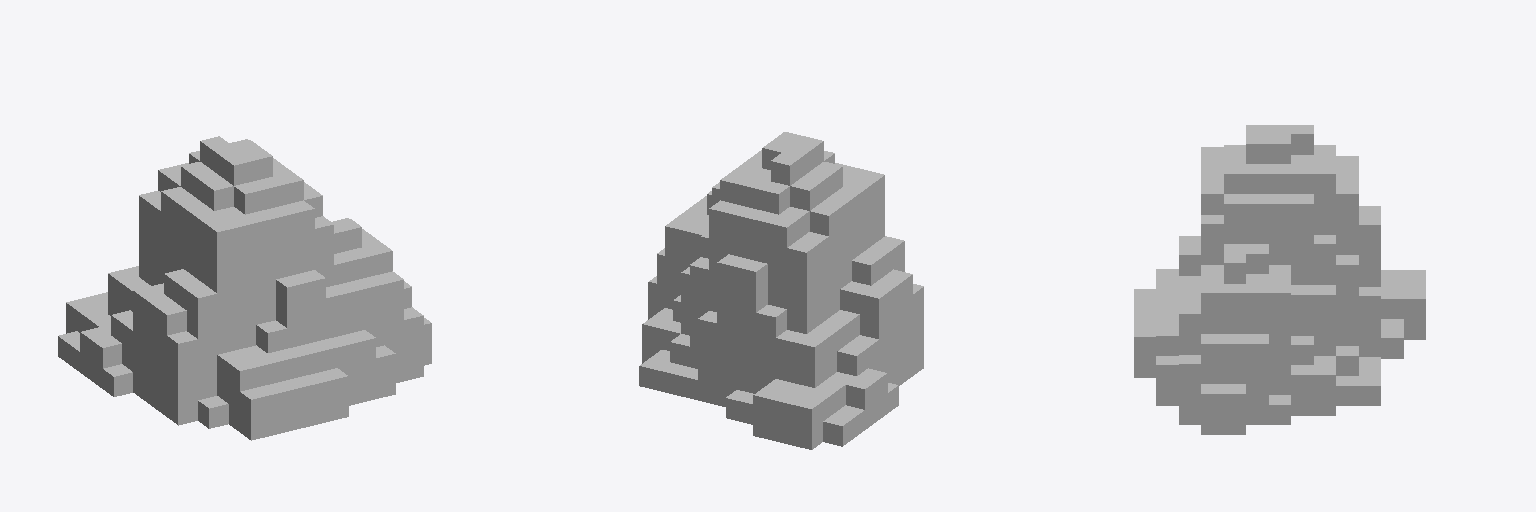
Rendered from Rock_2.obj.
3 views of the same model, side by side, from view 1: azimuth 30°, elevation 25°; view 2: azimuth 150°, elevation 25°; view 3: azimuth 270°, elevation 25° (orthographic).
Visible parts, largest first — view 1: object 1; view 2: object 1; view 3: object 1.
Boxes of the visible parts, <box> form: object 1: <box>58,136,431,440</box>; object 1: <box>639,132,923,449</box>; object 1: <box>1134,125,1425,434</box>.
Size of the model in its own units: 1.4 by 1.1 by 1.3.